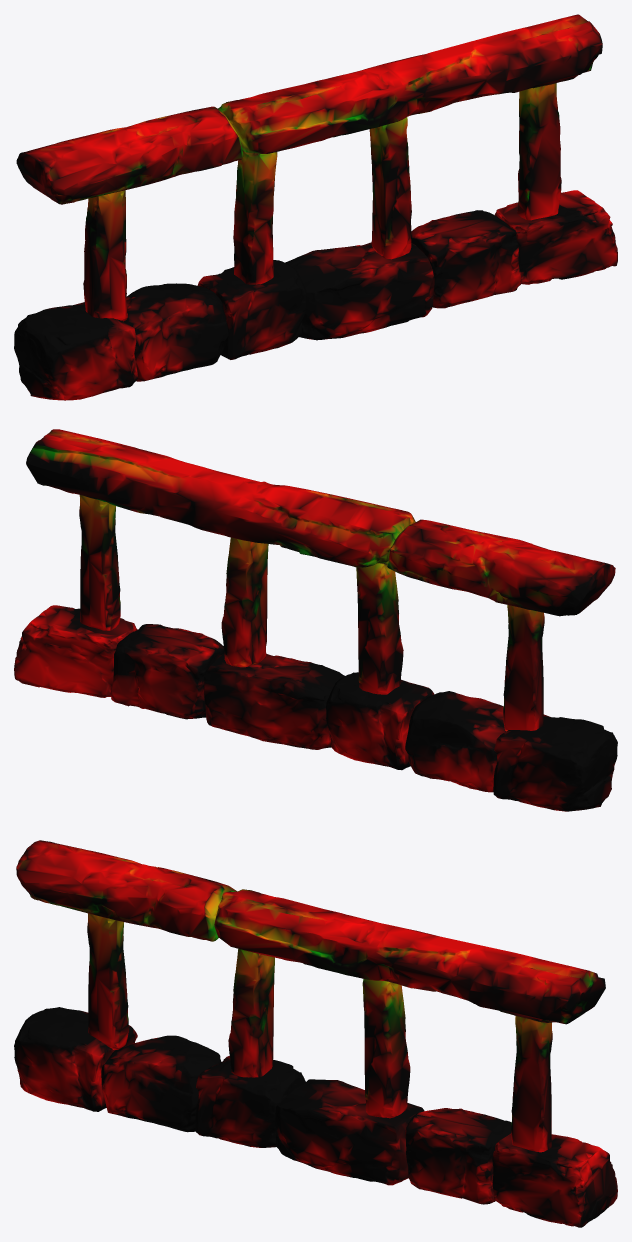
File: SM_Stone_Railings.fbx
3 views of the same model, one above another, from view 1: azimuth 30°, elevation 25°; view 2: azimuth 150°, elevation 25°; view 3: azimuth 330°, elevation 25° (orthographic).
Parts seen in each view (by area): view 1: SM_Stone_Railings_LOD0; view 2: SM_Stone_Railings_LOD0; view 3: SM_Stone_Railings_LOD0.
Boxes of the visible parts, x1,y1,x2,y2 form: SM_Stone_Railings_LOD0: (14, 14, 617, 400); SM_Stone_Railings_LOD0: (14, 429, 617, 811); SM_Stone_Railings_LOD0: (14, 840, 617, 1227).
Size of the model in its own units: 305 by 39.7 by 127.
